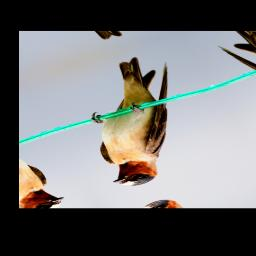Swallow: (49, 49, 228, 192)
